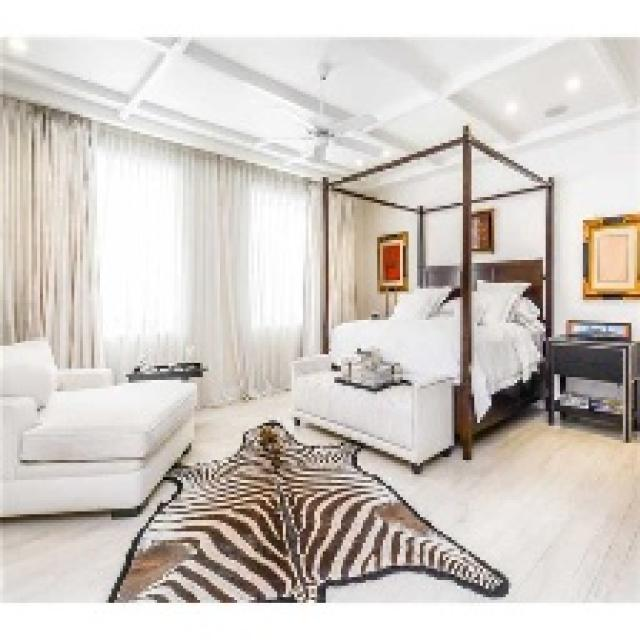Bed: (289, 123, 554, 468)
